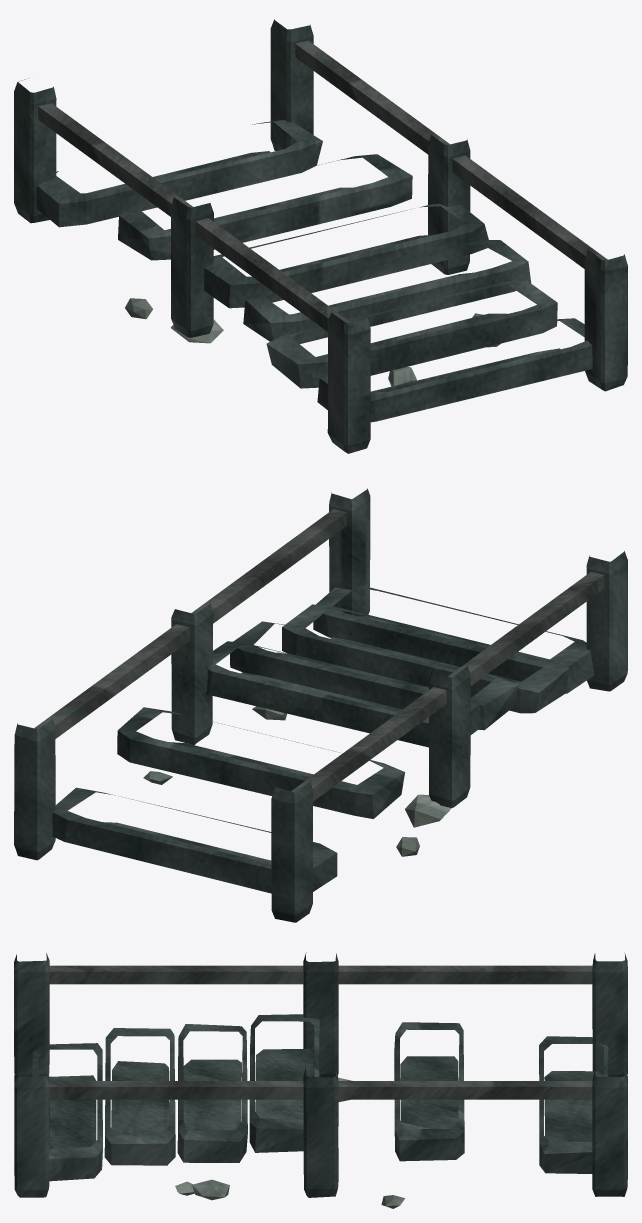
The model's file is 0380_ruined_bridge_05.glb.
3 renders of one model, top to bottom at view 1: azimuth 30°, elevation 25°; view 2: azimuth 150°, elevation 25°; view 3: azimuth 270°, elevation 25°, orthographic. The views are drawn at different scales.
Parts seen in each view (by area): view 1: stone_dark, iron, stone; view 2: stone_dark, iron, stone; view 3: stone_dark, iron, stone.
Boxes of the visible parts, x1,y1,x2,y2 form: stone_dark: (14,19,627,453); iron: (38,40,607,331); stone: (125,298,500,386); stone_dark: (14,488,627,922); iron: (34,509,603,801); stone: (143,706,451,856); stone_dark: (14,952,627,1197); iron: (49,965,592,1099); stone: (175,1077,404,1208).
Size of the model in its own units: 2.18 by 1.09 by 4.39.
3 materials, 3 textured.
